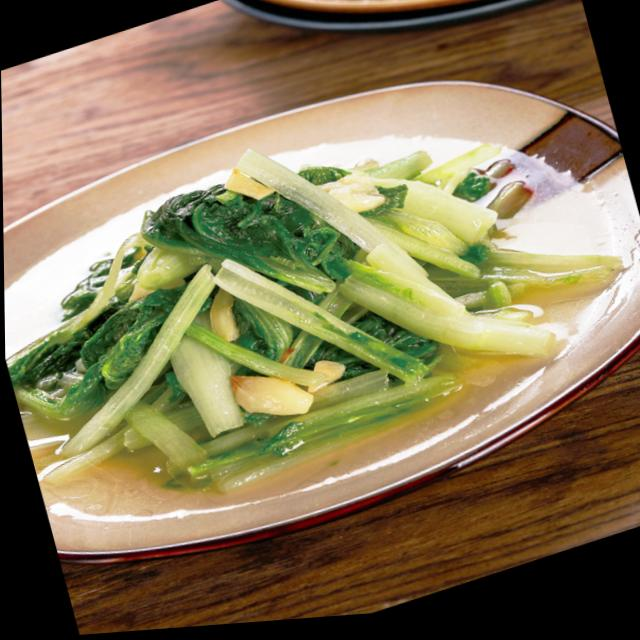chinese_cabbage: (1, 24, 640, 540)
